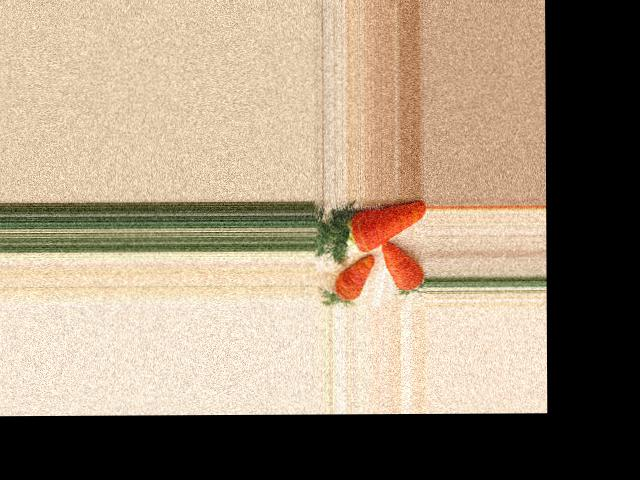carrot: (343, 196, 426, 257)
